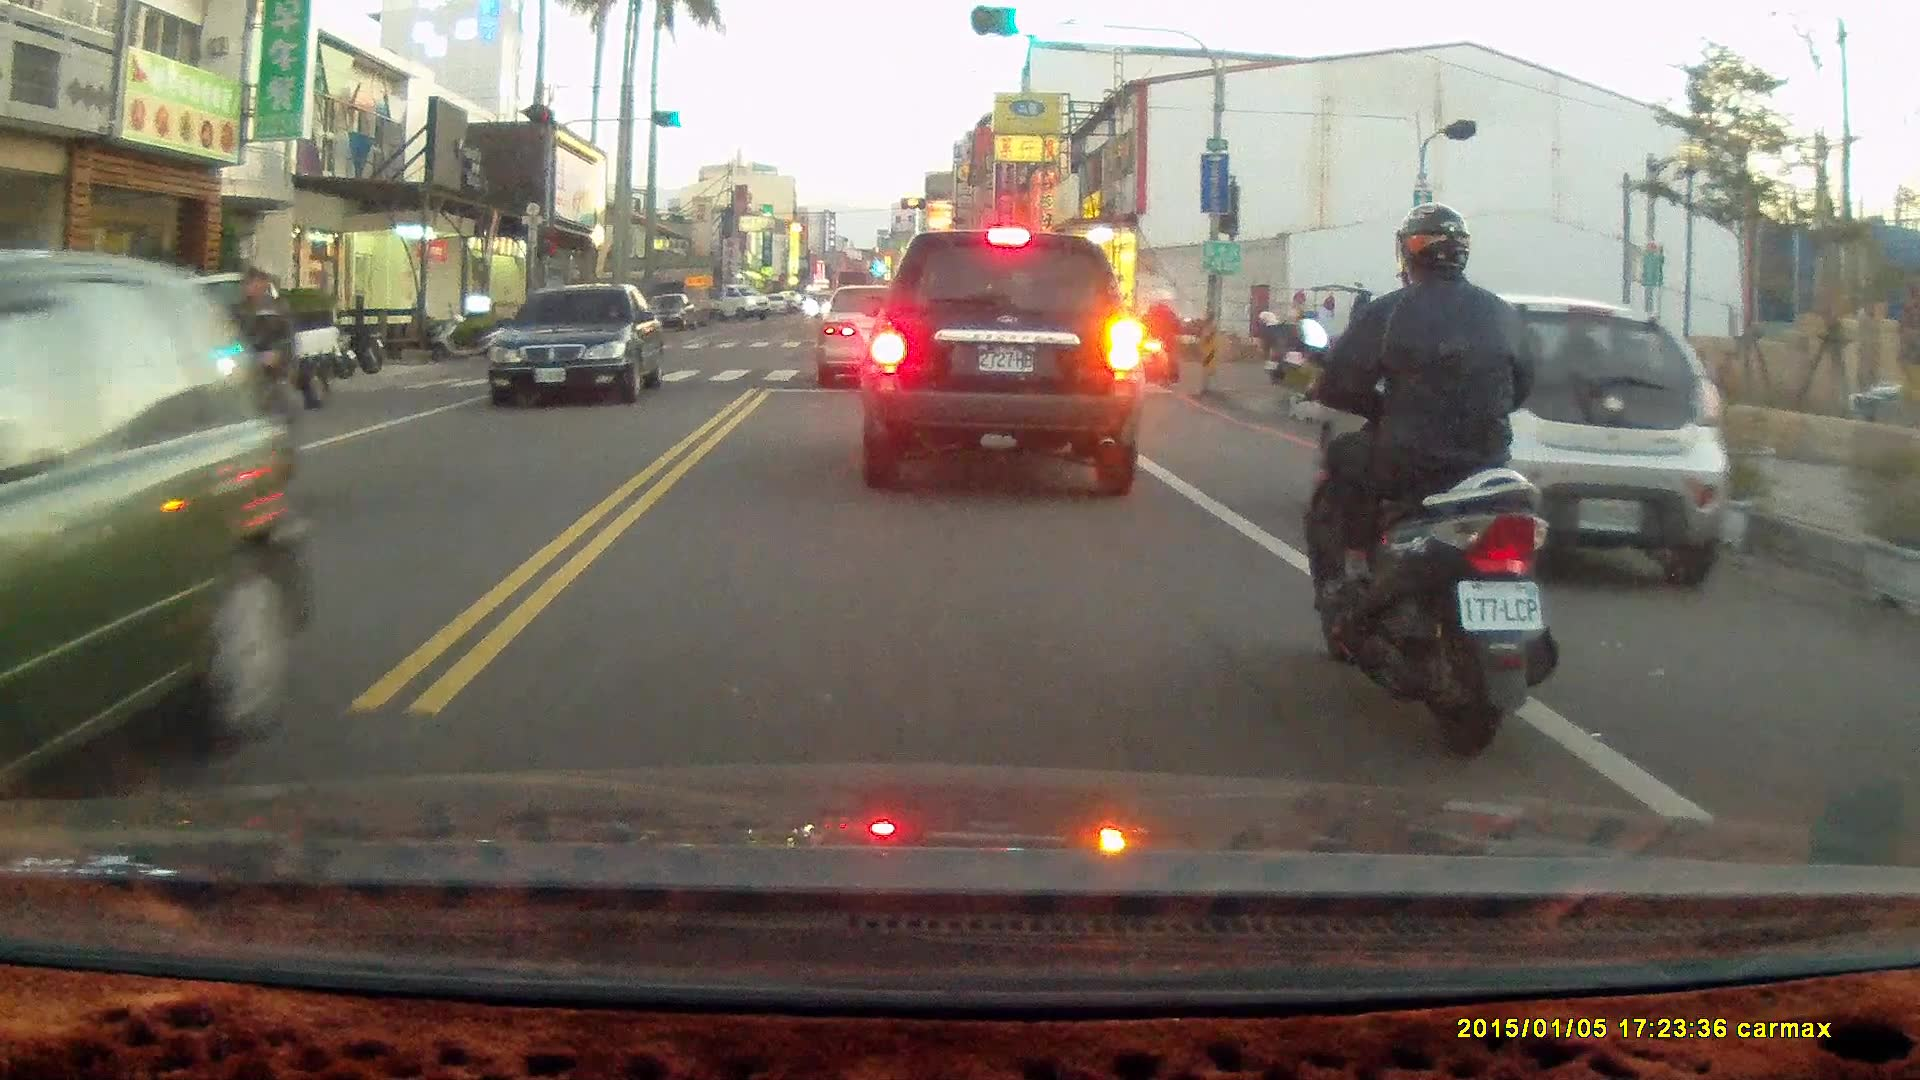pedestrian: (1253, 300, 1282, 366)
rider: (1286, 198, 1559, 756), (202, 260, 301, 499), (1261, 301, 1332, 384), (1131, 287, 1188, 389)
vehicle: (1, 250, 326, 798), (1318, 291, 1736, 586), (860, 224, 1144, 498), (132, 268, 345, 416), (491, 283, 667, 408), (816, 282, 939, 394)
